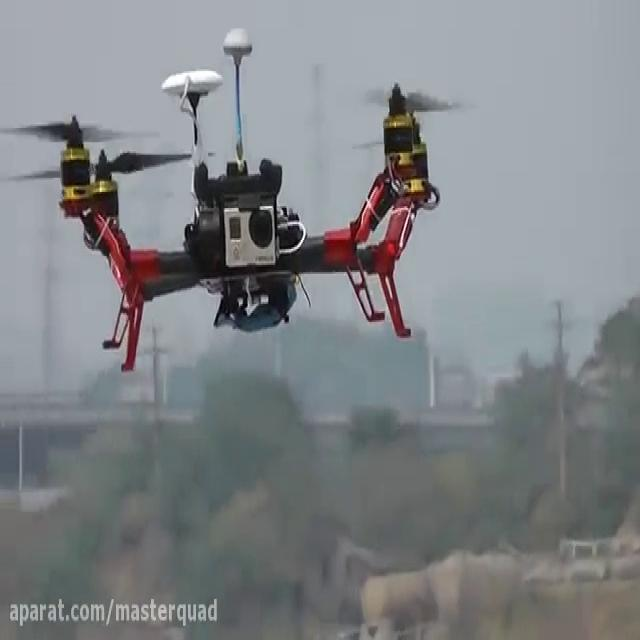drone: (0, 23, 477, 379)
